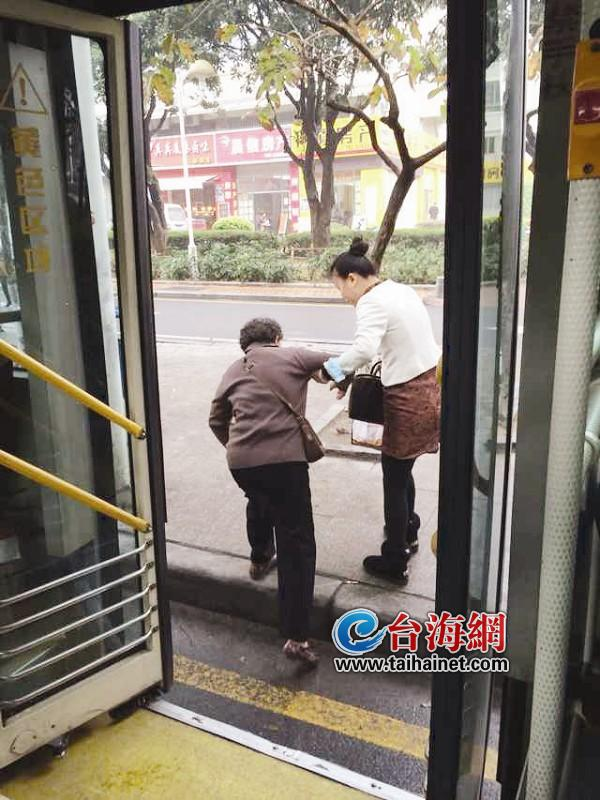other: (205, 315, 348, 685), (315, 232, 443, 597)
